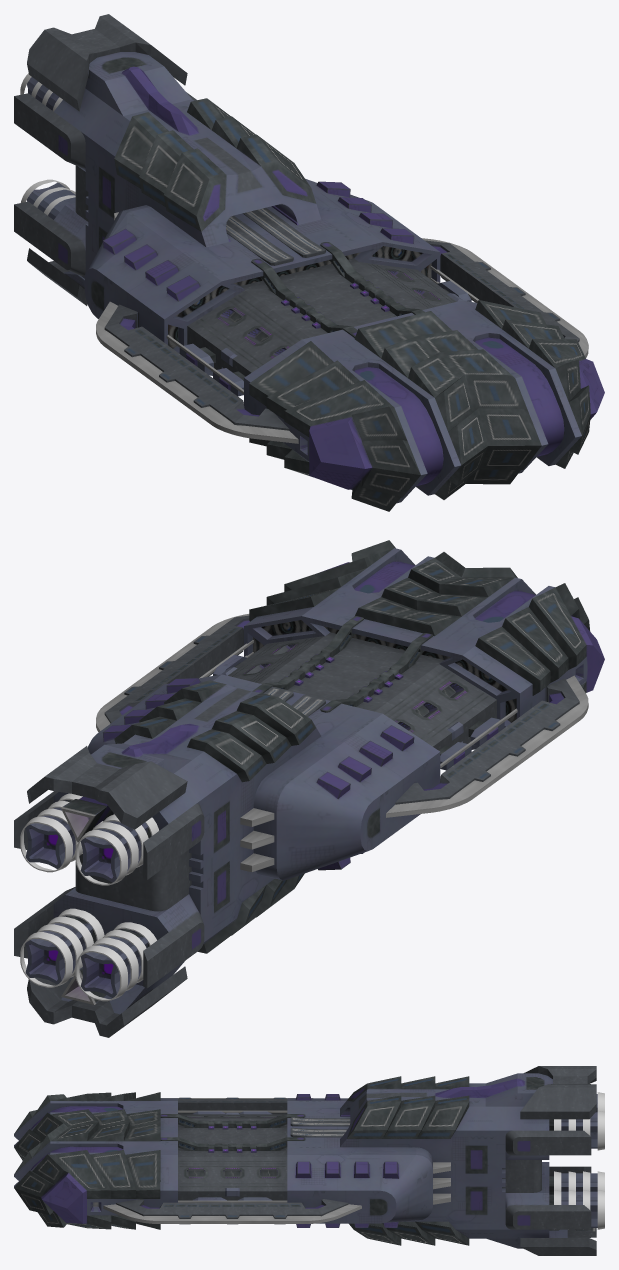
The model's file is watson.obj.
3 renders of one model, top to bottom at view 1: azimuth 30°, elevation 25°; view 2: azimuth 150°, elevation 25°; view 3: azimuth 270°, elevation 25°, orthographic. The views are drawn at different scales.
Parts seen in each view (by area): view 1: MeshLP_Cube.022, Cylinder.001; view 2: MeshLP_Cube.022, Cylinder.001; view 3: MeshLP_Cube.022, Cylinder.001.
Part boxes in pixels (x1,y1,x2,y2): MeshLP_Cube.022: (14, 14, 604, 511); Cylinder.001: (20, 73, 75, 215); MeshLP_Cube.022: (14, 540, 604, 1037); Cylinder.001: (20, 793, 158, 1001); MeshLP_Cube.022: (14, 1066, 597, 1255); Cylinder.001: (554, 1092, 604, 1229).
Bounding box in the file's own units: 8 × 5.1 × 16.22.
Materials: 2 (1 with a texture image).
